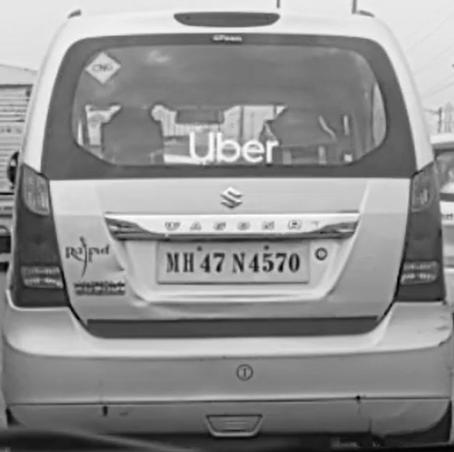number_plate: (160, 243, 311, 281)
